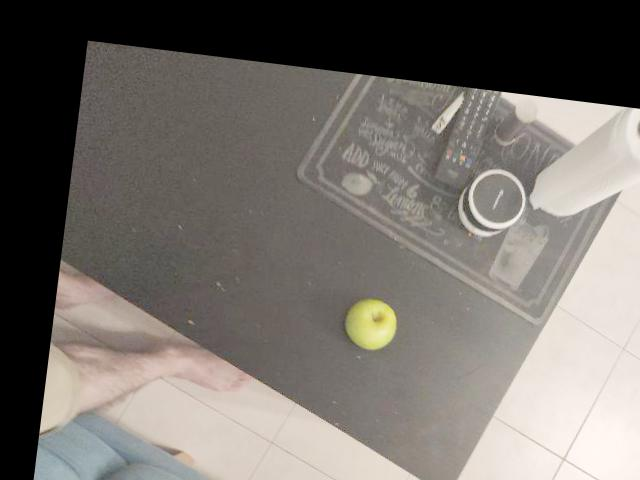apple: (337, 290, 405, 350)
